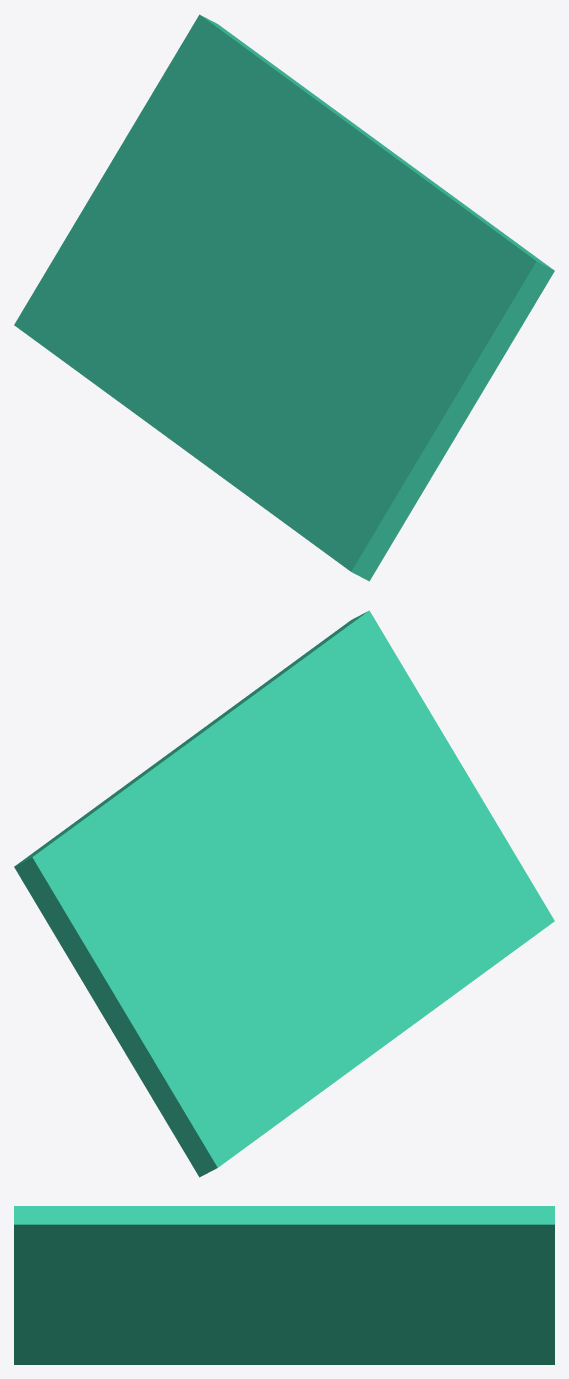
File: Gears_Board.fbx
3 views of the same model, one above another, from view 1: azimuth 30°, elevation 25°; view 2: azimuth 150°, elevation 25°; view 3: azimuth 270°, elevation 25° (orthographic). The views are drawn at different scales.
Parts seen in each view (by area): view 1: Gears_Board; view 2: Gears_Board; view 3: Gears_Board.
Part boxes in pixels (x1,y1,x2,y2): Gears_Board: [14, 14, 554, 581]; Gears_Board: [14, 610, 554, 1177]; Gears_Board: [14, 1206, 554, 1364].
Bounding box in the file's own units: 14.55 × 19.07 × 41.69.
